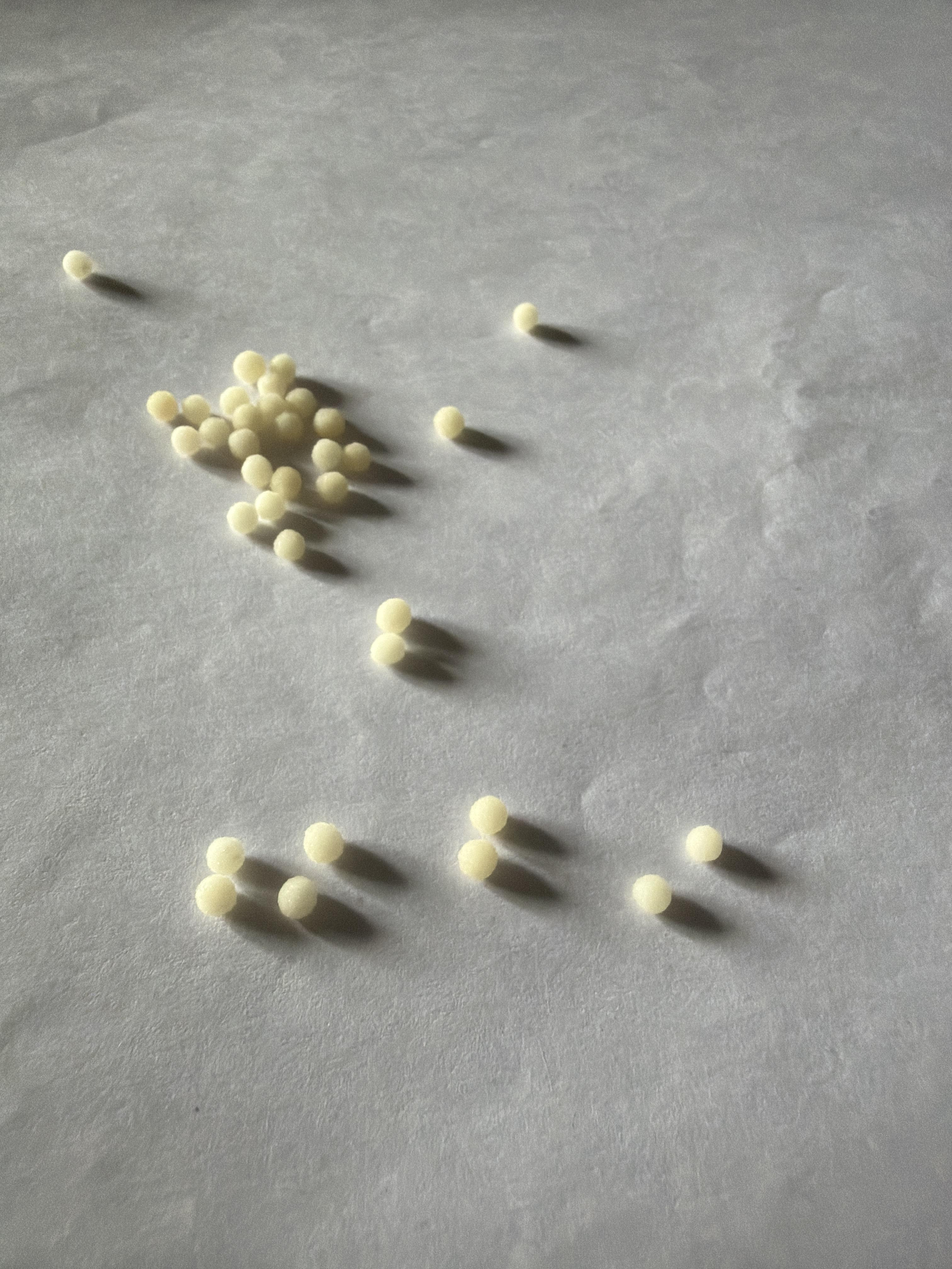pill: (277, 876, 318, 920), (195, 875, 237, 916), (457, 839, 498, 880), (303, 822, 344, 863), (632, 874, 672, 914), (469, 795, 508, 835), (206, 837, 245, 876), (685, 826, 723, 862), (376, 598, 411, 634), (315, 471, 349, 505), (233, 350, 267, 384), (370, 633, 405, 666), (241, 454, 273, 490), (270, 466, 302, 501), (226, 501, 259, 534), (273, 529, 306, 562), (254, 489, 286, 523), (285, 388, 316, 423), (228, 428, 260, 461), (198, 416, 231, 448), (146, 390, 178, 422), (433, 406, 464, 439), (275, 409, 304, 444), (313, 408, 345, 439), (231, 403, 263, 434), (181, 394, 211, 427), (312, 438, 342, 471), (341, 442, 371, 475), (257, 392, 286, 426), (62, 251, 95, 280), (171, 425, 201, 456), (219, 386, 249, 417), (258, 370, 289, 398), (268, 353, 296, 382), (512, 302, 538, 333)
